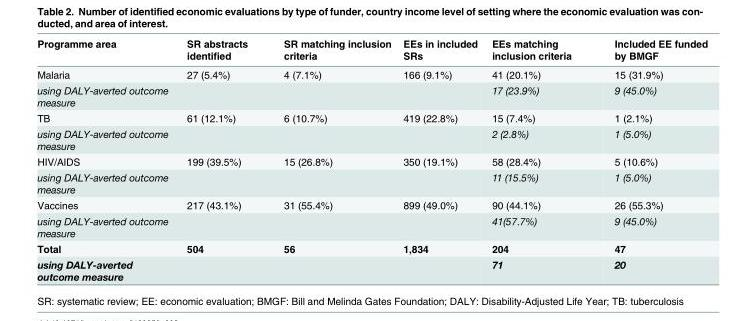table: (36, 37, 706, 282)
table column: (36, 37, 176, 282), (265, 37, 396, 282), (592, 37, 706, 282), (484, 37, 592, 282), (176, 37, 265, 282), (396, 37, 484, 282)
table column header: (36, 37, 706, 64)
table row: (36, 81, 706, 109), (36, 125, 706, 153), (36, 169, 706, 197), (36, 212, 706, 240), (36, 37, 706, 64), (36, 256, 706, 282), (36, 64, 706, 81), (36, 109, 706, 125), (36, 153, 706, 169), (36, 240, 706, 256), (36, 197, 706, 212)
